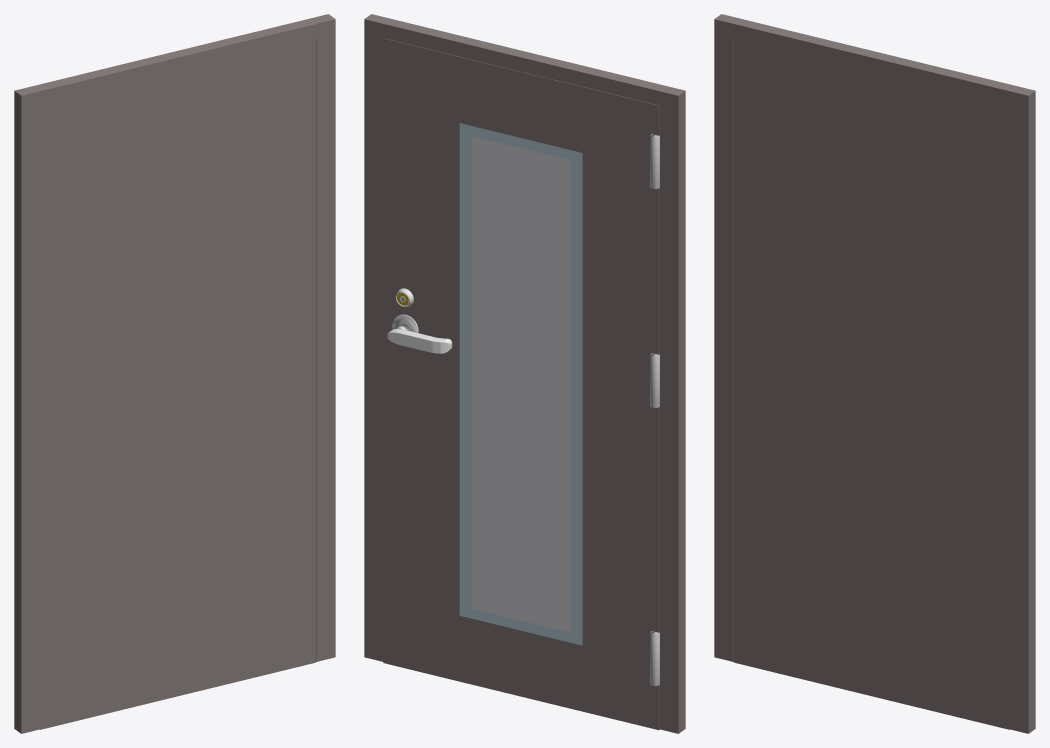
File: Door.fbx
3 views of the same model, side by side, from view 1: azimuth 30°, elevation 25°; view 2: azimuth 150°, elevation 25°; view 3: azimuth 330°, elevation 25° (orthographic).
Parts seen in each view (by area): view 1: Door, Frame; view 2: Door, Frame; view 3: Door, Frame.
Part boxes in pixels (x1=…): Door: x1=40, y1=38, x2=315, y2=729; Frame: x1=14, y1=14, x2=335, y2=733; Door: x1=383, y1=38, x2=659, y2=730; Frame: x1=364, y1=14, x2=685, y2=733; Door: x1=734, y1=38, x2=1009, y2=729; Frame: x1=714, y1=14, x2=1035, y2=733.
Size of the model in its own units: 388 by 753 by 44.16.
